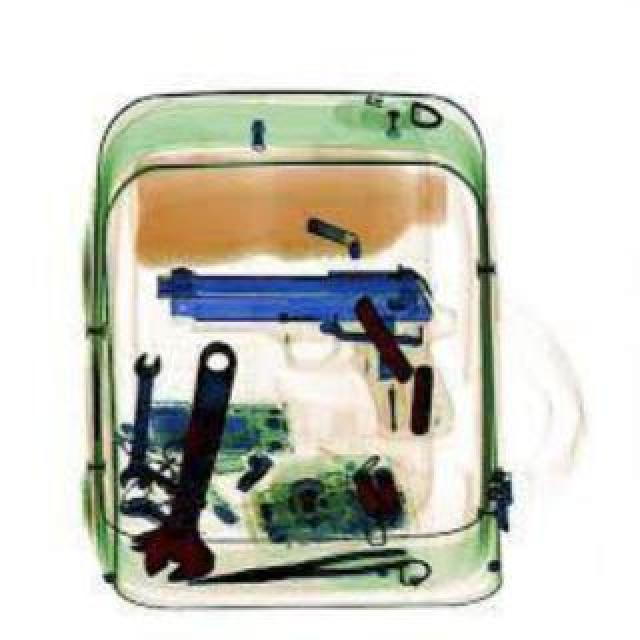gun: (160, 274, 440, 386)
scissors: (142, 344, 244, 598), (124, 356, 170, 498)
